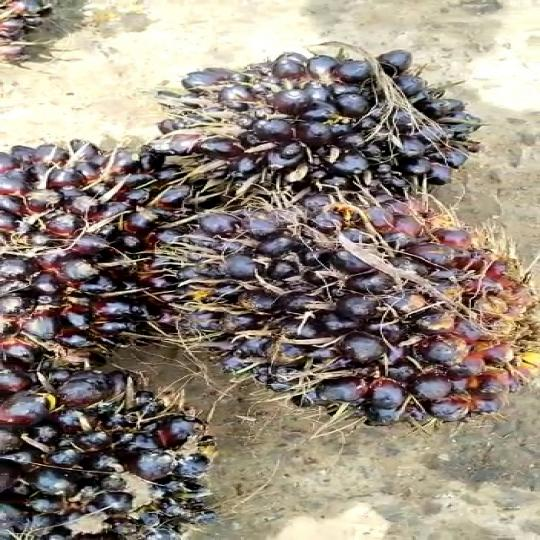mentah: (156, 192, 523, 420), (148, 39, 510, 205), (0, 362, 255, 540), (0, 130, 156, 390)
